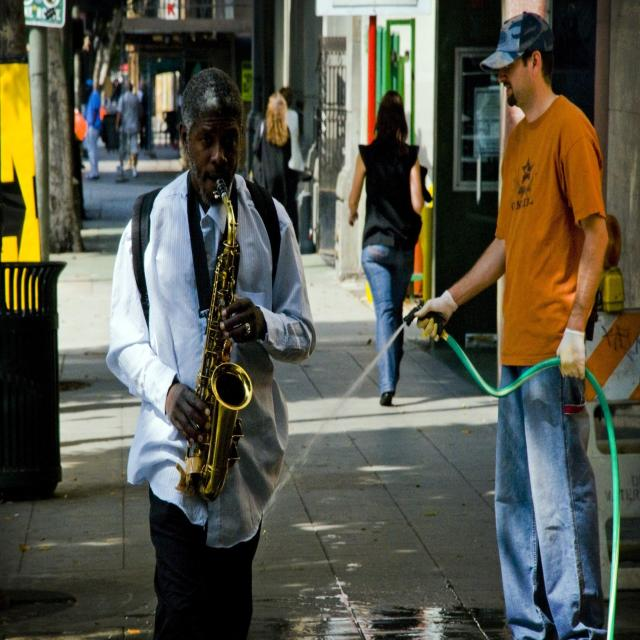saxophone: (184, 175, 258, 504)
